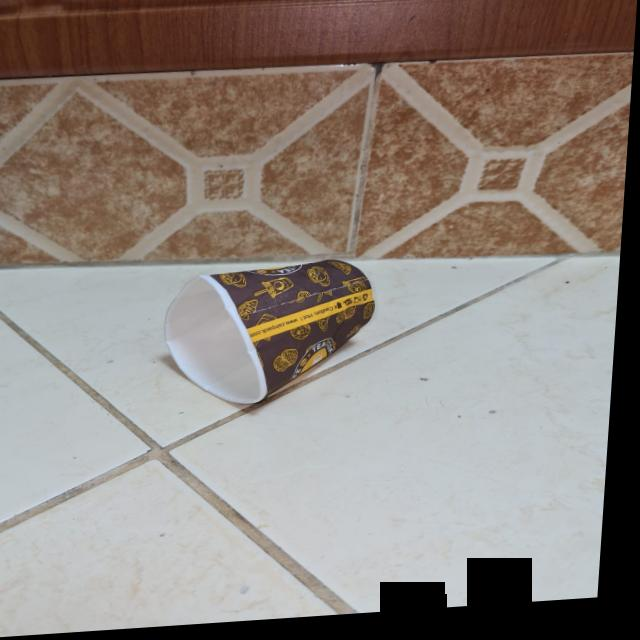cups: (165, 254, 388, 414)
